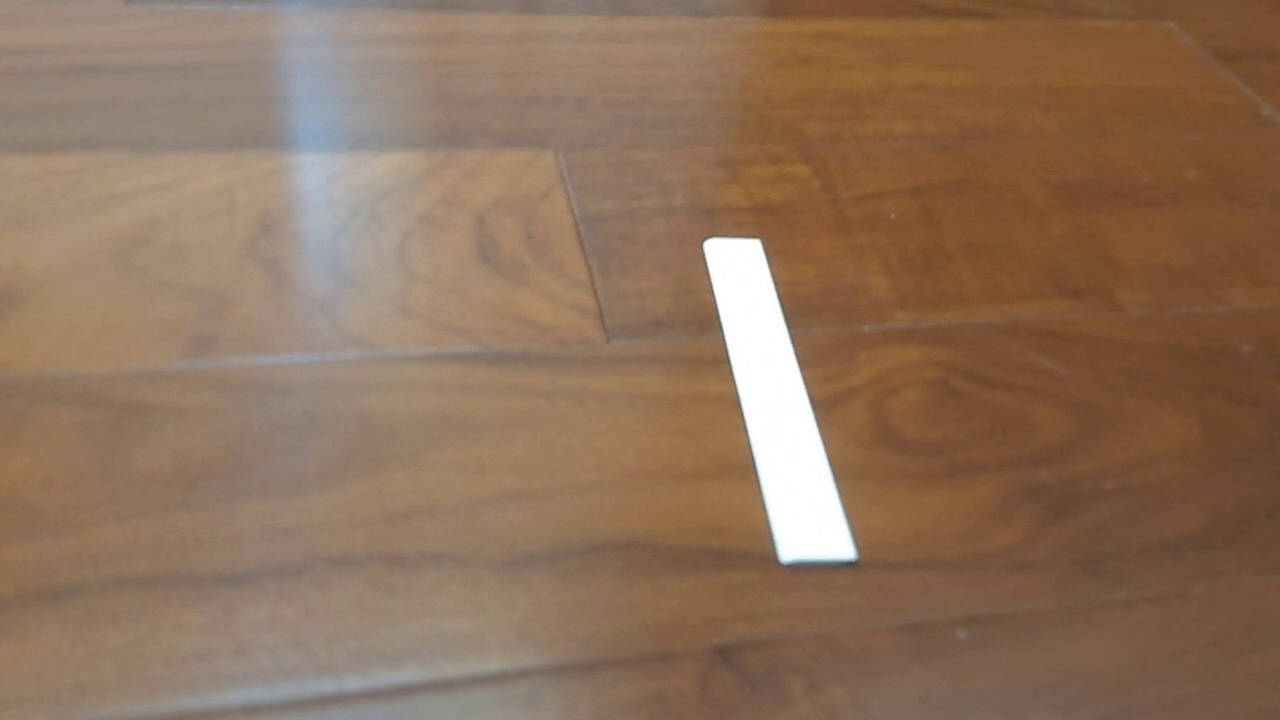ruler: (701, 235, 862, 569)
